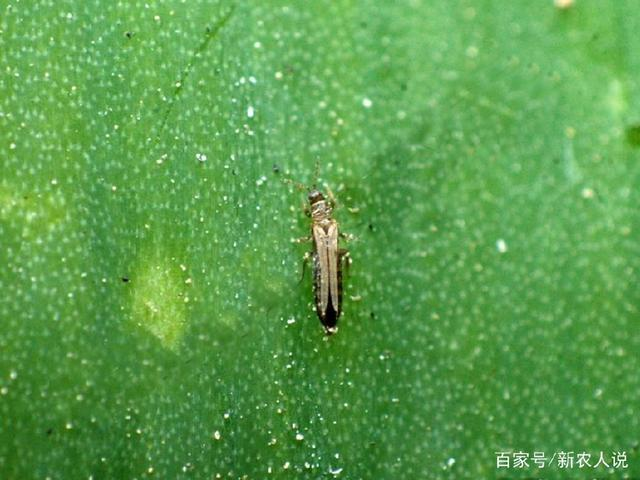Thripidae: (287, 158, 364, 339)
